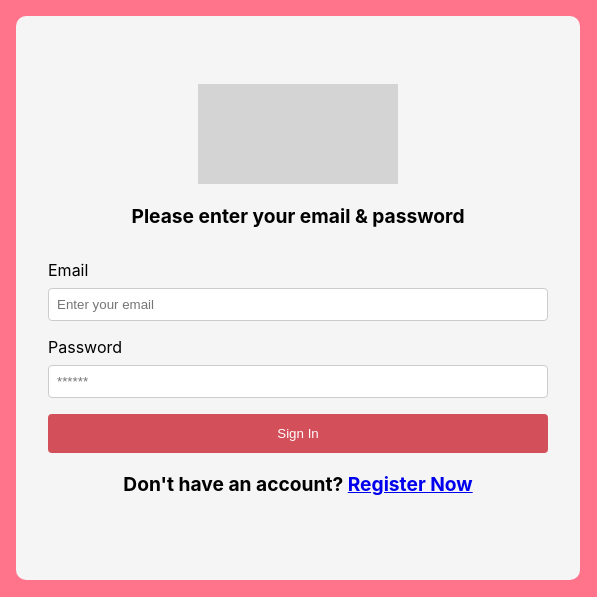
it: Login Component › should show error message for invalid input
Type invalid email and password
Type "invalid-email@gmail.com" into the field named "email".
click(298, 305); type("invalid-email@gmail.com")  # box [48, 288, 548, 321]
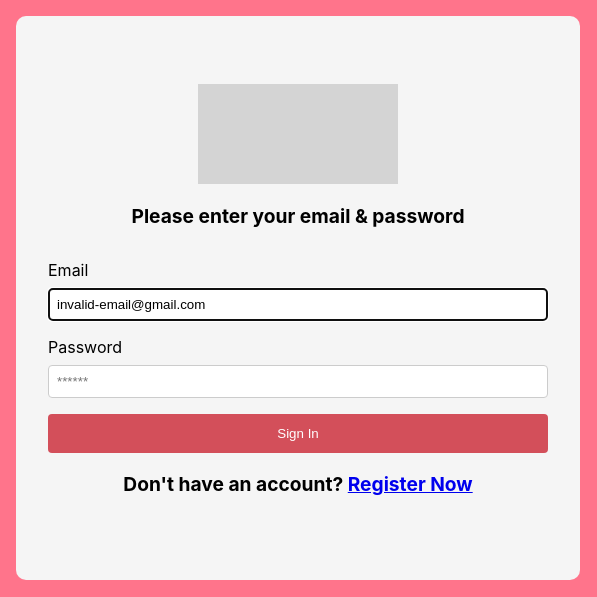
Type "short" into the password field named "password".
click(298, 382); type("short")  # box [48, 365, 548, 398]
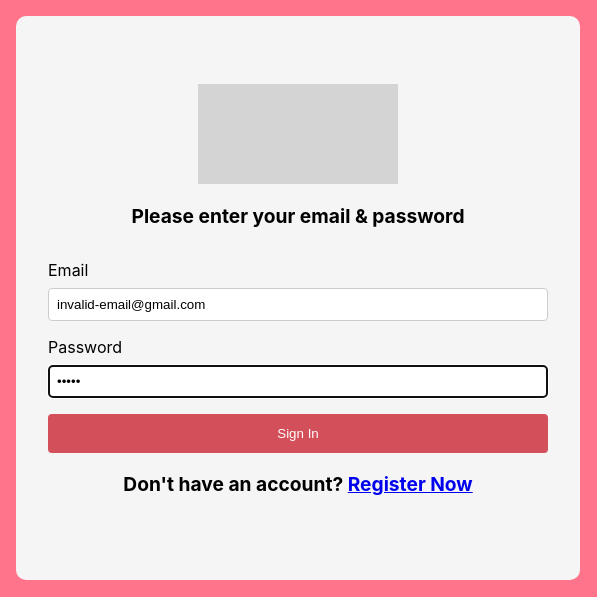
Click the submit button
Click the submit button.
click(298, 434)  # box [48, 414, 548, 453]
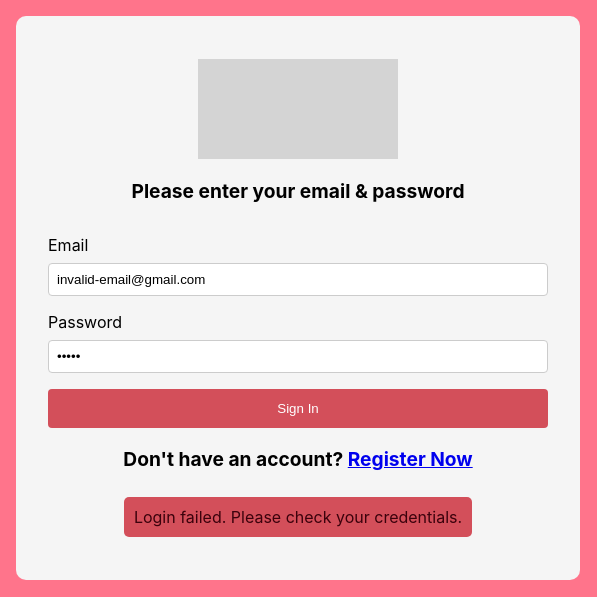
Check: the text "Login failed. Please check your credentials." is shown, box [124, 497, 472, 537]
Check: the text with class "fail-message" reads "Login failed. Please check your credentials.", box [134, 507, 462, 527]
